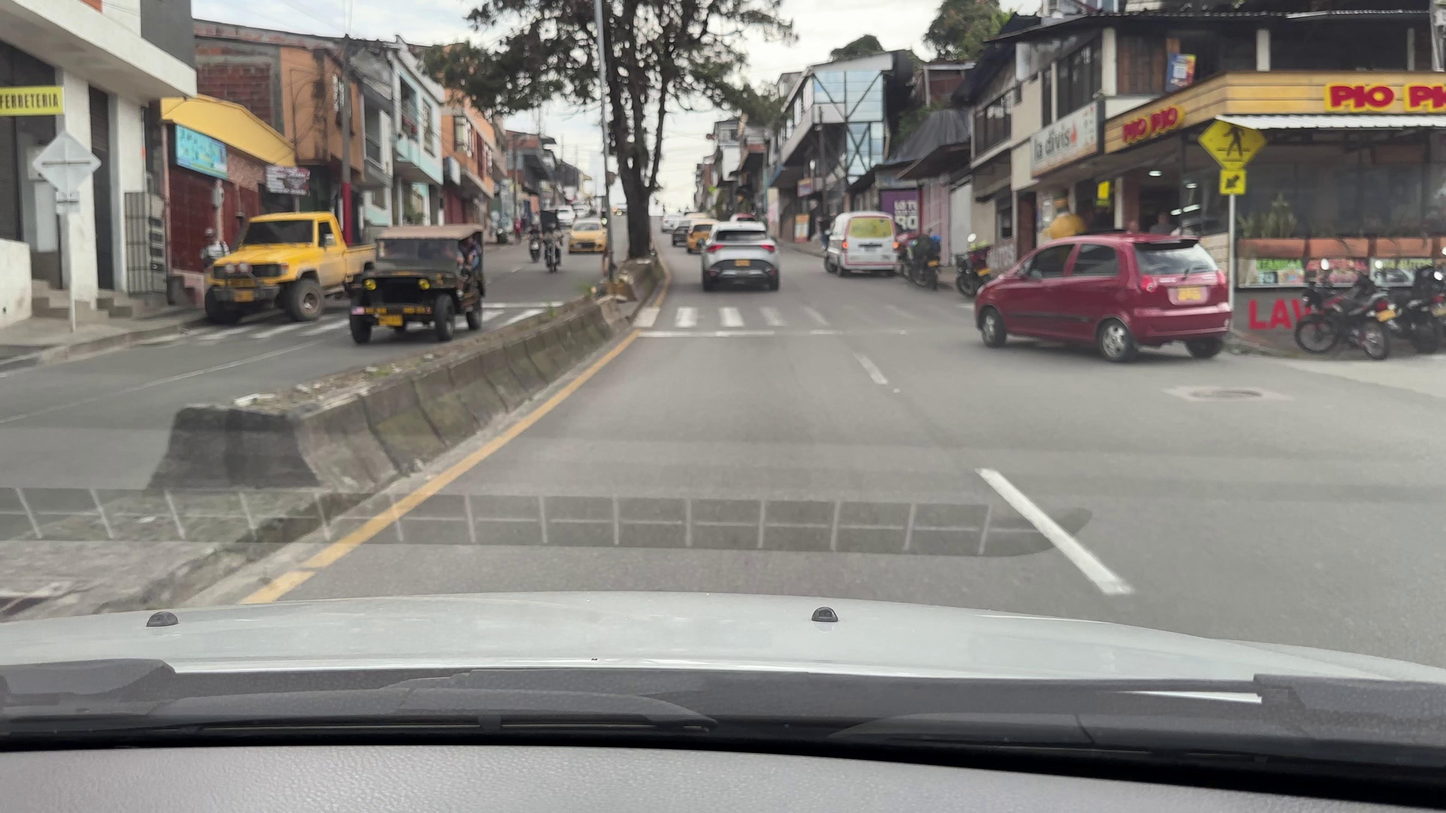registro: (1189, 389, 1263, 399)
